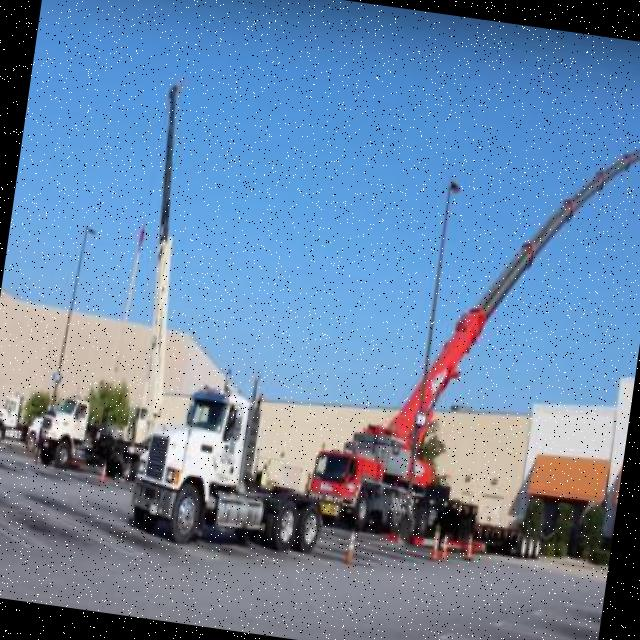Mobile Crane: (298, 81, 640, 572), (94, 78, 212, 480)
